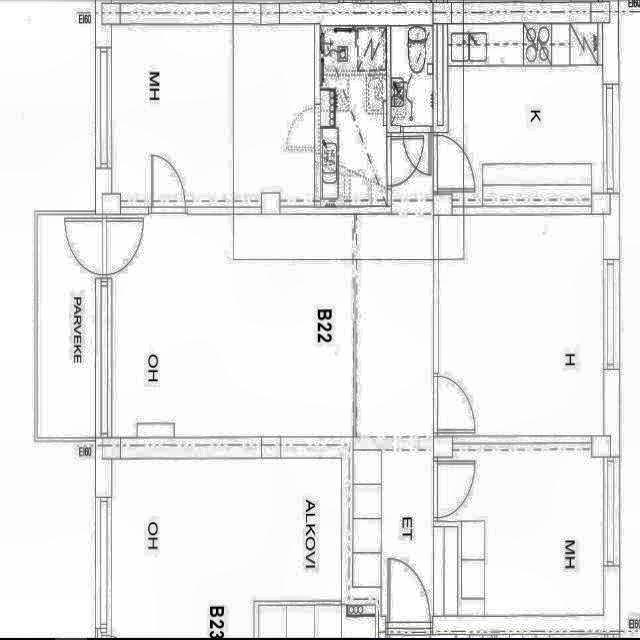room: (438, 215, 602, 435), (437, 24, 603, 207), (443, 442, 605, 616), (112, 25, 233, 207), (233, 24, 315, 207), (320, 26, 387, 207), (390, 24, 433, 126)
